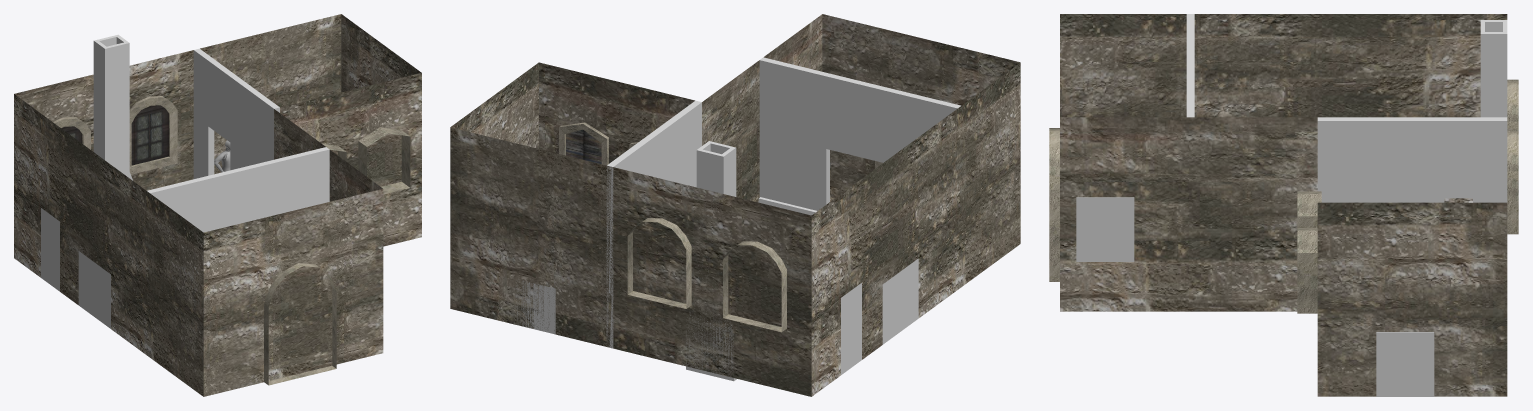
The model's file is house_3.interior.fbx.
3 renders of one model, left to right at view 1: azimuth 30°, elevation 25°; view 2: azimuth 150°, elevation 25°; view 3: azimuth 270°, elevation 25°, orthographic. The views are drawn at different scales.
Parts seen in each view (by area): view 1: house_3.003, Cube.002, fireplace_1.003, store_2.007, sideboard_1.009; view 2: house_3.003, Cube.002, fireplace_1.003, store_2.007, sideboard_1.009, sideboard_1.007; view 3: house_3.003, Cube.002, store_2.006, store_2.004, fireplace_1.003.
Part boxes in pixels (x1,y1,x2,y2): house_3.003: (14,14,421,396); Cube.002: (147,48,329,232); fireplace_1.003: (93,34,132,180); store_2.007: (78,251,110,328); sideboard_1.009: (41,208,59,291); house_3.003: (450,14,1020,396); Cube.002: (606,57,960,348); fireplace_1.003: (686,141,736,381); store_2.007: (882,258,918,344); sideboard_1.009: (841,283,861,374); sideboard_1.007: (511,279,555,334); house_3.003: (1049,14,1518,396); Cube.002: (1186,14,1507,202); store_2.006: (1376,332,1434,396); store_2.004: (1076,197,1134,261); fireplace_1.003: (1468,20,1507,202).
Bounding box in the file's own units: 8.34 × 4.89 × 8.76.
